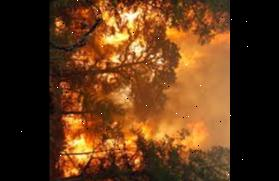fire: (63, 114, 208, 156), (99, 3, 176, 56), (180, 51, 200, 70), (52, 13, 70, 34)
